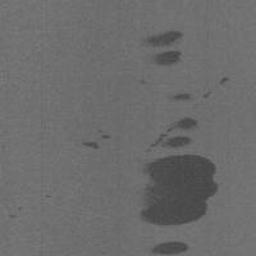Oil spot: (136, 152, 220, 228), (145, 115, 198, 155), (140, 28, 186, 69), (81, 128, 114, 151), (147, 239, 191, 256), (164, 91, 200, 109), (6, 205, 24, 220), (201, 88, 215, 100), (218, 77, 230, 86), (138, 78, 150, 87)
